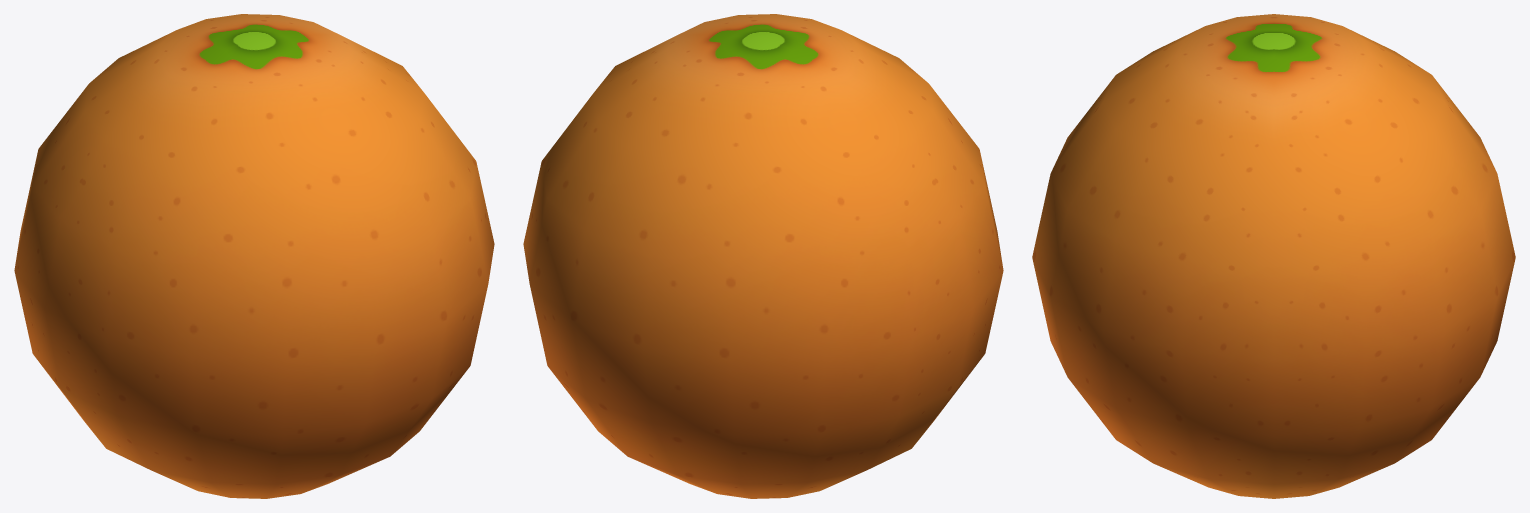
Rendered from ENV1810021.fbx.
3 renders of one model, left to right at view 1: azimuth 30°, elevation 25°; view 2: azimuth 150°, elevation 25°; view 3: azimuth 270°, elevation 25°, orthographic.
Visible parts, largest first — view 1: smENV1810021; view 2: smENV1810021; view 3: smENV1810021.
Boxes of the visible parts, left/top/right/bottom form: smENV1810021: left=14, top=14, right=494, bottom=498; smENV1810021: left=523, top=14, right=1003, bottom=498; smENV1810021: left=1032, top=14, right=1515, bottom=498.
Size of the model in its own units: 8.66 by 8.68 by 8.66.
1 material, 1 textured.
